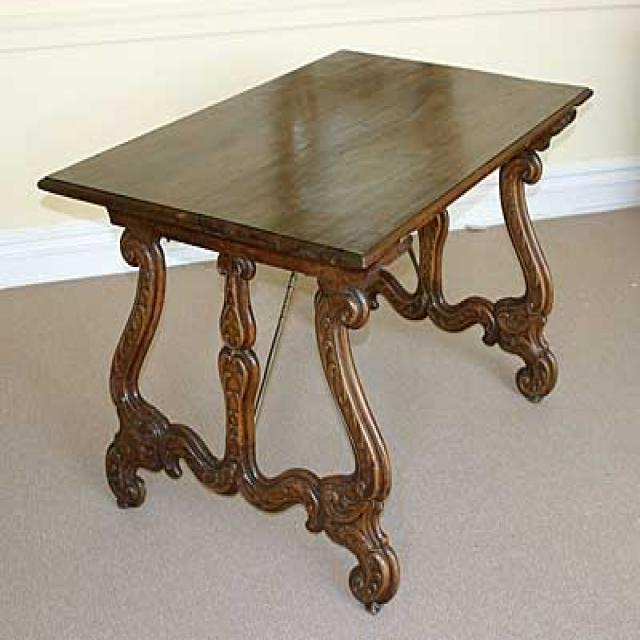table: (36, 41, 594, 615)
